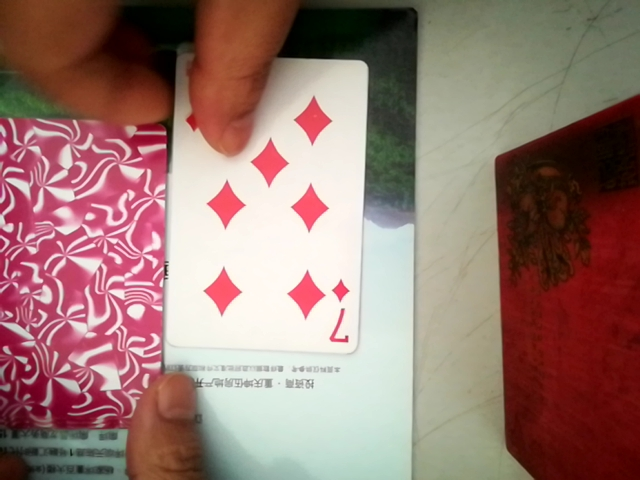fk 7: (164, 50, 369, 368)
